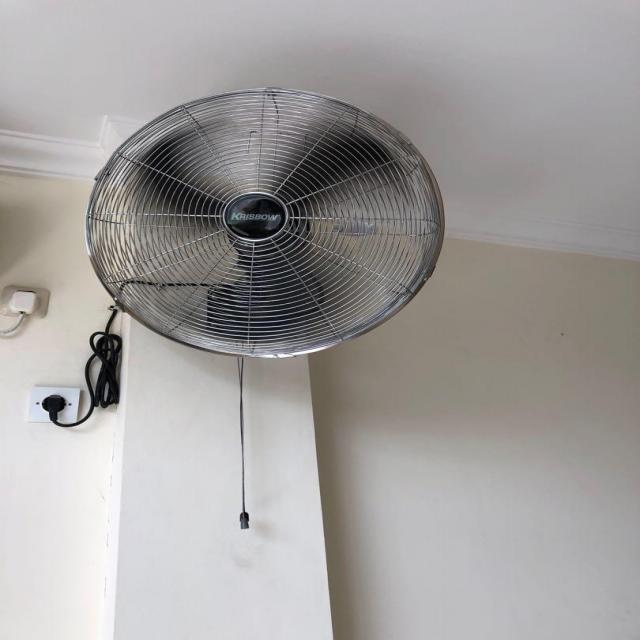fan: (59, 76, 563, 537)
